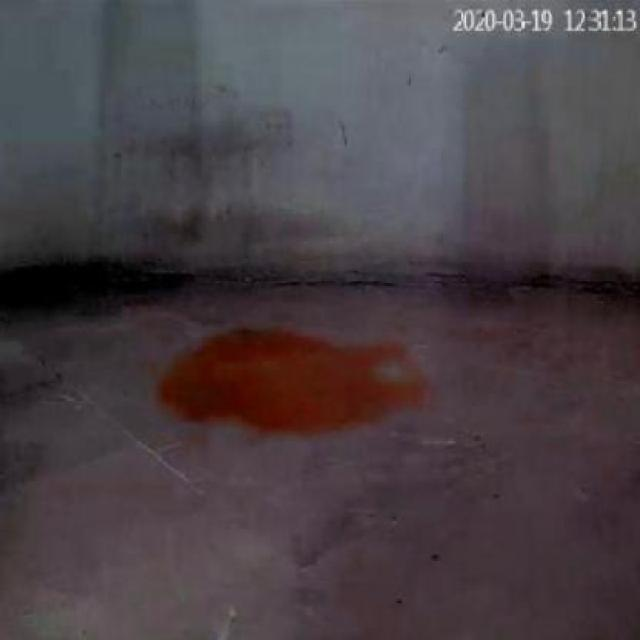spillage: (155, 330, 423, 437)
